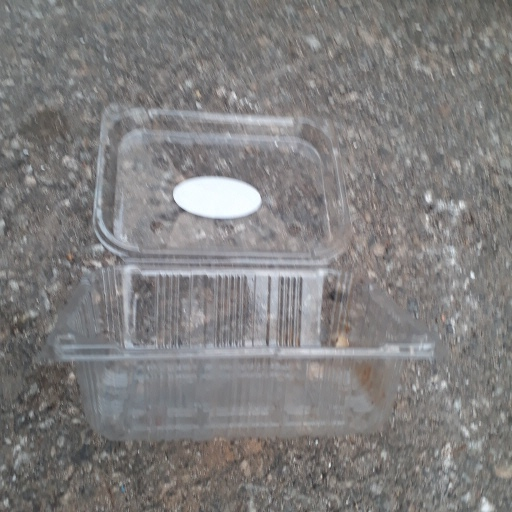Plastic_4: (46, 101, 434, 432)
